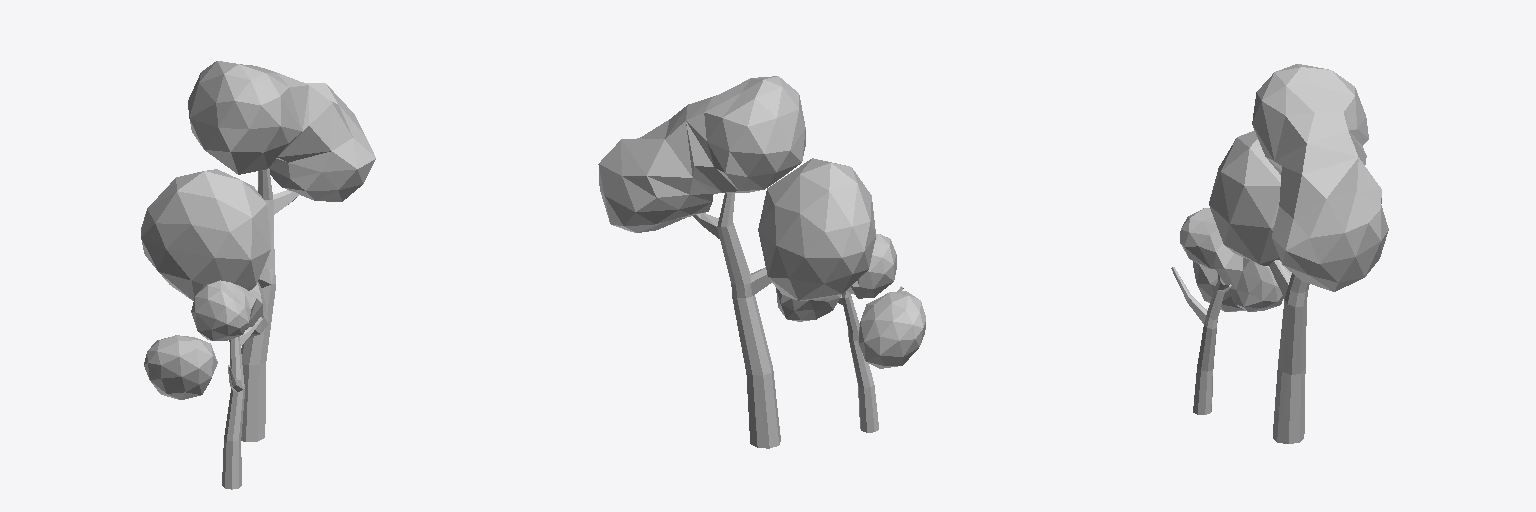
The model's file is TwoTrees.obj.
3 views of the same model, side by side, from view 1: azimuth 30°, elevation 25°; view 2: azimuth 150°, elevation 25°; view 3: azimuth 270°, elevation 25° (orthographic).
Visible parts, largest first — view 1: Norm_Tree_Branches.001_Cylinder.006; view 2: Norm_Tree_Branches.001_Cylinder.006; view 3: Norm_Tree_Branches.001_Cylinder.006.
Boxes of the visible parts, x1,y1,x2,y2 form: Norm_Tree_Branches.001_Cylinder.006: [141, 61, 375, 489]; Norm_Tree_Branches.001_Cylinder.006: [598, 76, 925, 448]; Norm_Tree_Branches.001_Cylinder.006: [1171, 64, 1388, 443].
Size of the model in its own units: 17.56 by 23.66 by 12.56.